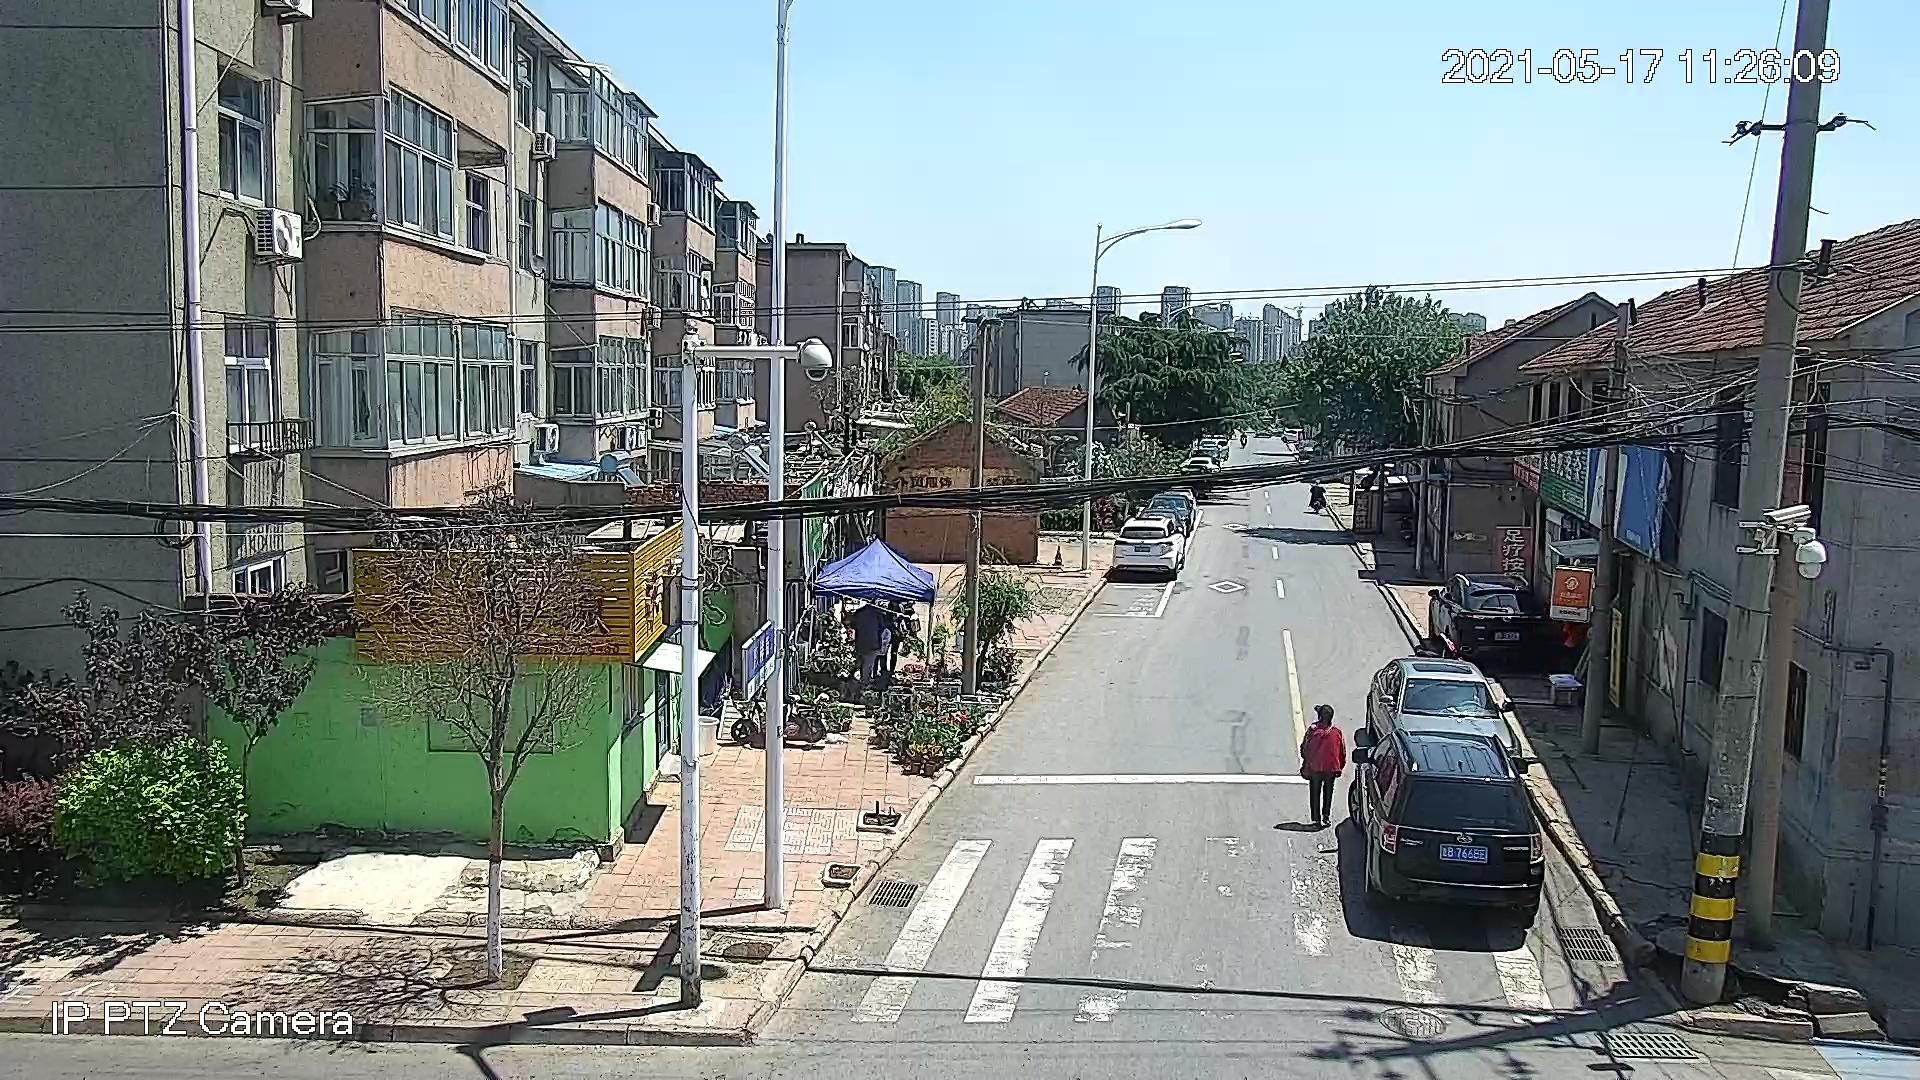umbrella: (814, 538, 935, 603)
